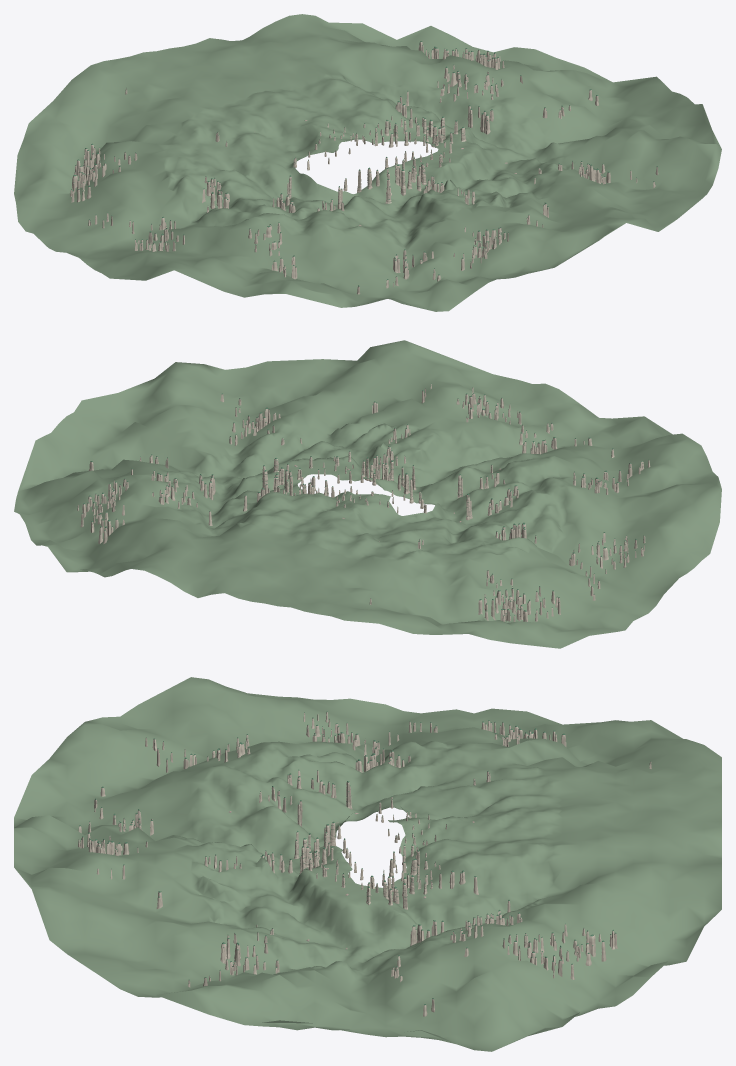
Rendered from backdrop.glb.
3 renders of one model, top to bottom at view 1: azimuth 30°, elevation 25°; view 2: azimuth 150°, elevation 25°; view 3: azimuth 270°, elevation 25°, orthographic. The views are drawn at different scales.
Visible parts, largest first — view 1: backdrop_terrain_wood, backdrop_pillars_rock, backdrop_pillars_crown; view 2: backdrop_terrain_wood, backdrop_pillars_rock, backdrop_pillars_crown; view 3: backdrop_terrain_wood, backdrop_pillars_rock, backdrop_pillars_crown.
Part boxes in pixels (x1,y1,x2,y2): backdrop_terrain_wood: [14, 14, 721, 311]; backdrop_pillars_rock: [70, 42, 658, 294]; backdrop_pillars_crown: [71, 41, 657, 286]; backdrop_terrain_wood: [14, 340, 721, 648]; backdrop_pillars_rock: [77, 384, 650, 621]; backdrop_pillars_crown: [78, 383, 648, 616]; backdrop_terrain_wood: [14, 677, 721, 1051]; backdrop_pillars_rock: [78, 712, 651, 1016]; backdrop_pillars_crown: [79, 711, 650, 1005].
Size of what is drawn, in the model's own units: 9200 by 752 by 8001.
